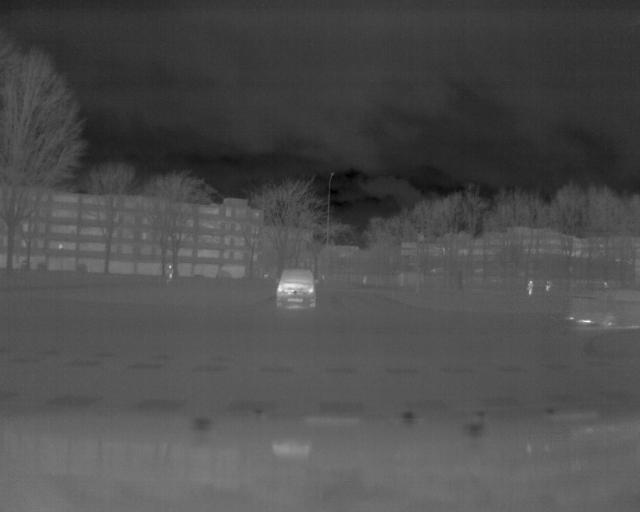car: (569, 287, 640, 331), (274, 268, 318, 309)
person: (526, 278, 534, 297), (166, 263, 173, 280)
